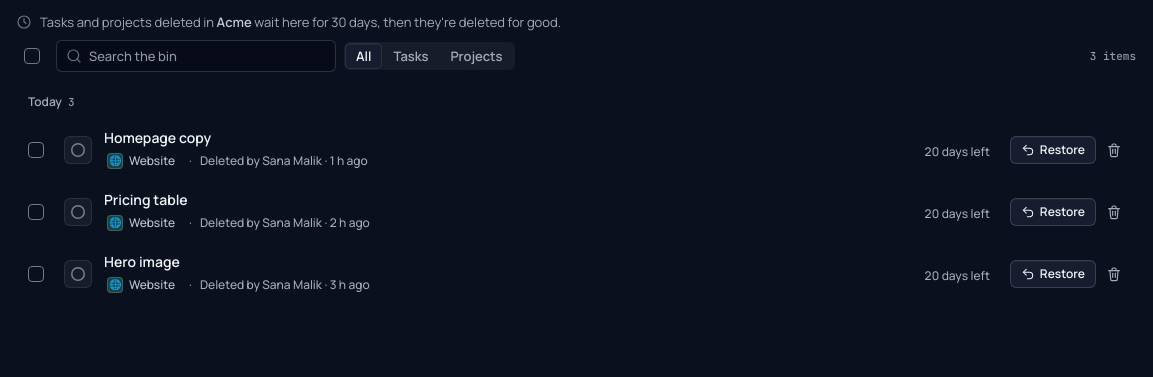
Test: RecycleBin states › bulk restore: the ones that fail stay selected with their reasons; the rest go
Check: the text "Homepage copy" is shown, box [103,127,211,147]
Click the checkbox named "Select everything in the bin" at (32, 56), box [24,48,40,64]
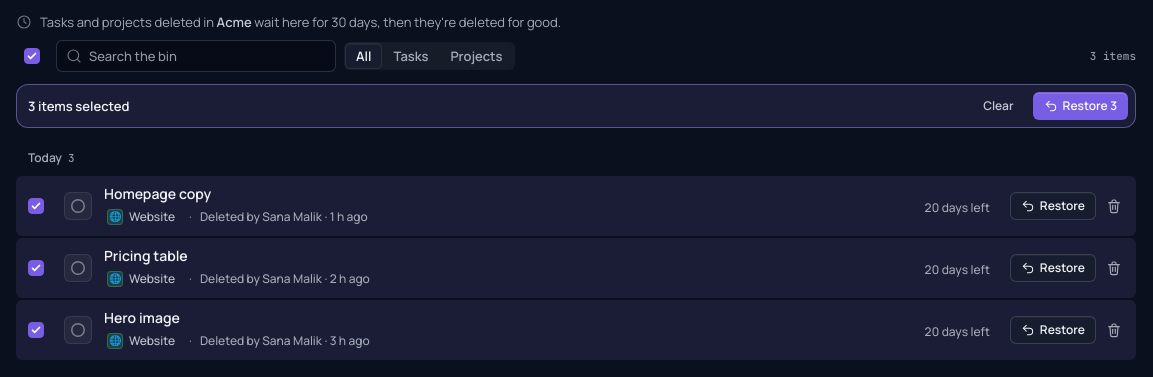
Click the button "Restore 3" at (1080, 106), box [1033,92,1128,120]
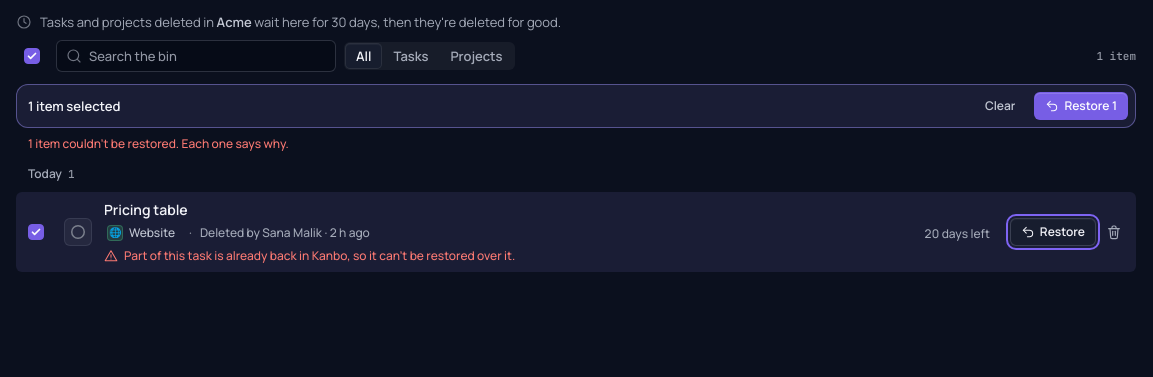
Check: the text "Homepage copy" is gone
Check: the text "Hero image" is gone
Check: the text "1 item selected" is shown, box [28,97,120,115]
